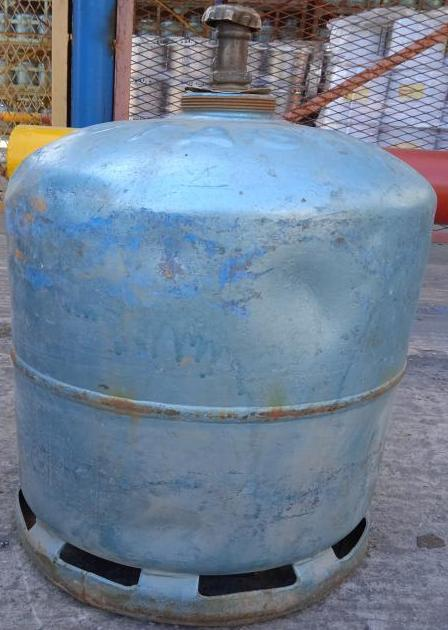cylinder: (0, 1, 448, 630)
